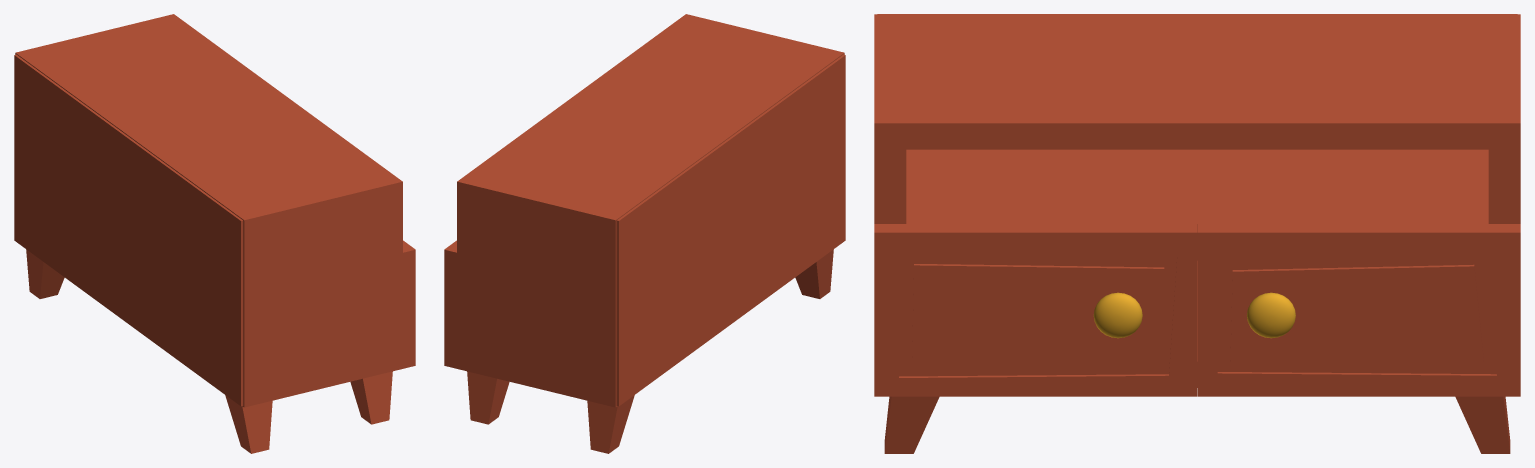
File: Cabinate.glb
3 renders of one model, left to right at view 1: azimuth 30°, elevation 25°; view 2: azimuth 150°, elevation 25°; view 3: azimuth 270°, elevation 25°, orthographic. The views are drawn at different scales.
Parts seen in each view (by area): view 1: TV_table.001, TV_table_door1; view 2: TV_table.001, TV_table_door2; view 3: TV_table.001, TV_table_door1, TV_table_door2.
Part boxes in pixels (x1,y1,x2,y2): TV_table.001: [14, 14, 402, 453]; TV_table_door1: [403, 240, 415, 368]; TV_table.001: [457, 14, 845, 453]; TV_table_door2: [444, 240, 456, 368]; TV_table.001: [874, 14, 1520, 453]; TV_table_door1: [874, 224, 1197, 396]; TV_table_door2: [1197, 224, 1520, 396].
Bounding box in the file's own units: 0.6933 × 0.8213 × 1.43.
